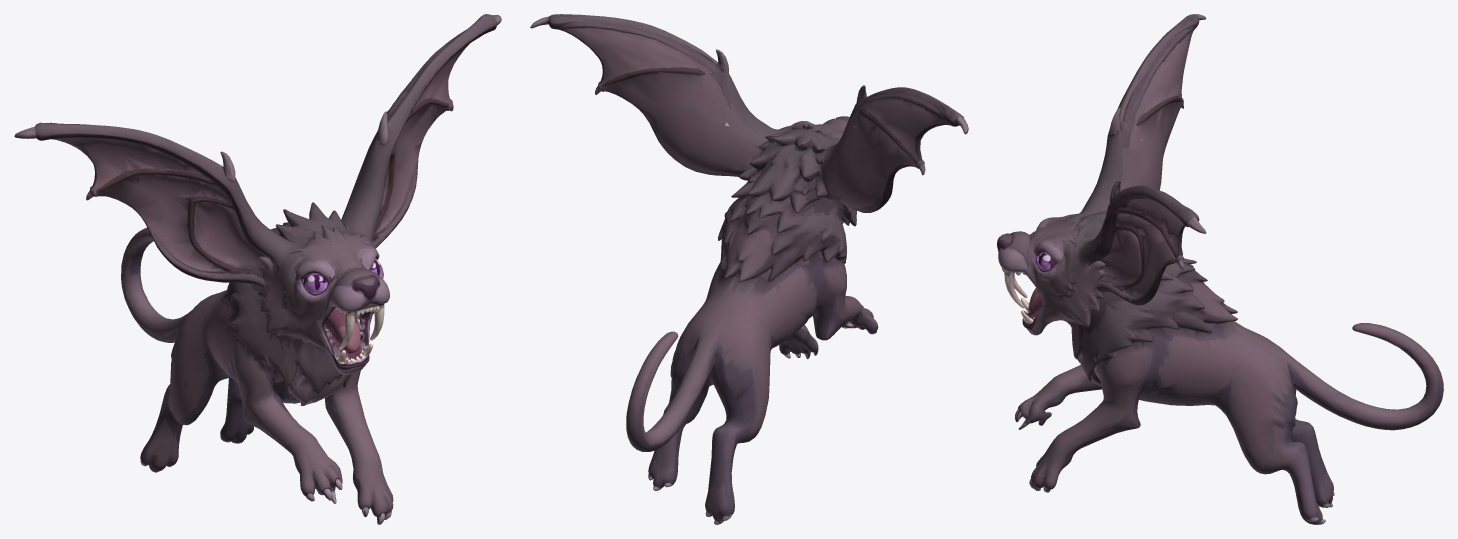
3 views of the same model, side by side, from view 1: azimuth 30°, elevation 25°; view 2: azimuth 150°, elevation 25°; view 3: azimuth 270°, elevation 25° (orthographic). The views are drawn at different scales.
Parts seen in each view (by area): view 1: Mesh_0; view 2: Mesh_0; view 3: Mesh_0.
Boxes of the visible parts, left/top/right/bottom form: Mesh_0: left=14, top=14, right=501, bottom=524; Mesh_0: left=530, top=14, right=968, bottom=524; Mesh_0: left=997, top=14, right=1443, bottom=524.
Size of the model in its own units: 1.9 by 1.68 by 1.67.
1 material, 1 textured.
